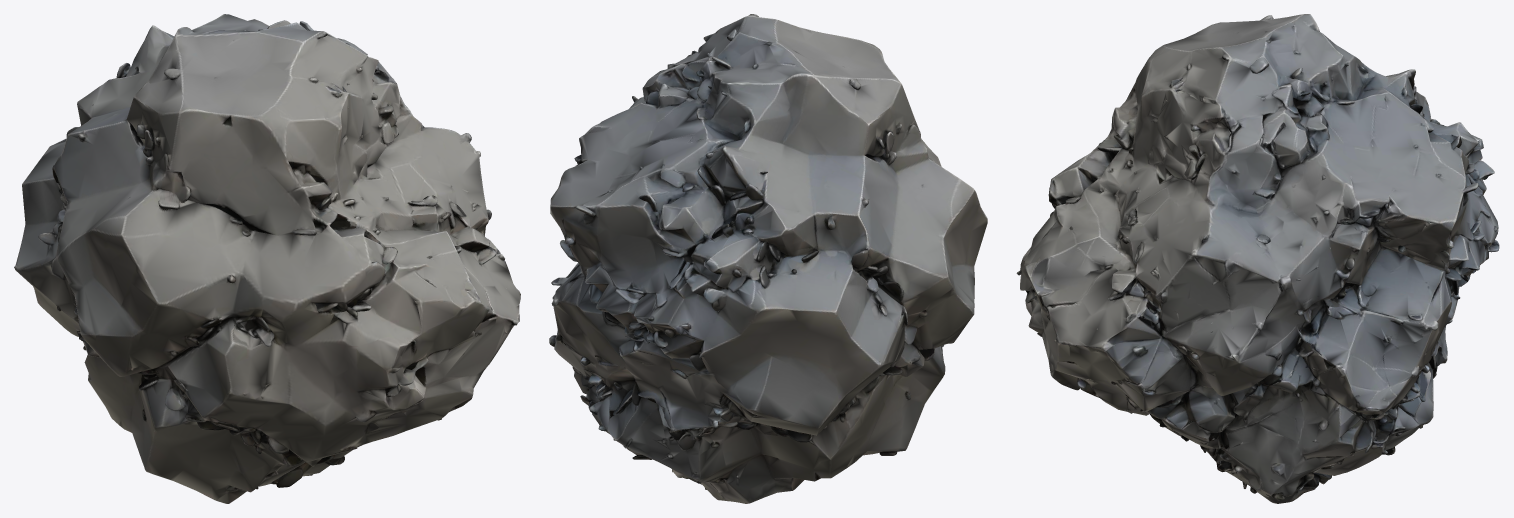
Rendered from crystal.glb.
3 views of the same model, side by side, from view 1: azimuth 30°, elevation 25°; view 2: azimuth 150°, elevation 25°; view 3: azimuth 270°, elevation 25° (orthographic). The views are drawn at different scales.
Parts seen in each view (by area): view 1: tripo_node_791304ed-b9ed-4b93-8f9e-959351a8fcb6; view 2: tripo_node_791304ed-b9ed-4b93-8f9e-959351a8fcb6; view 3: tripo_node_791304ed-b9ed-4b93-8f9e-959351a8fcb6.
Part boxes in pixels (box(x1,y1,x2,y2)): tripo_node_791304ed-b9ed-4b93-8f9e-959351a8fcb6: box(14, 14, 520, 503); tripo_node_791304ed-b9ed-4b93-8f9e-959351a8fcb6: box(549, 14, 987, 503); tripo_node_791304ed-b9ed-4b93-8f9e-959351a8fcb6: box(1016, 14, 1499, 503).
Size of the model in its own units: 0.8852 by 0.9996 by 0.9945.
1 material, 1 textured.
